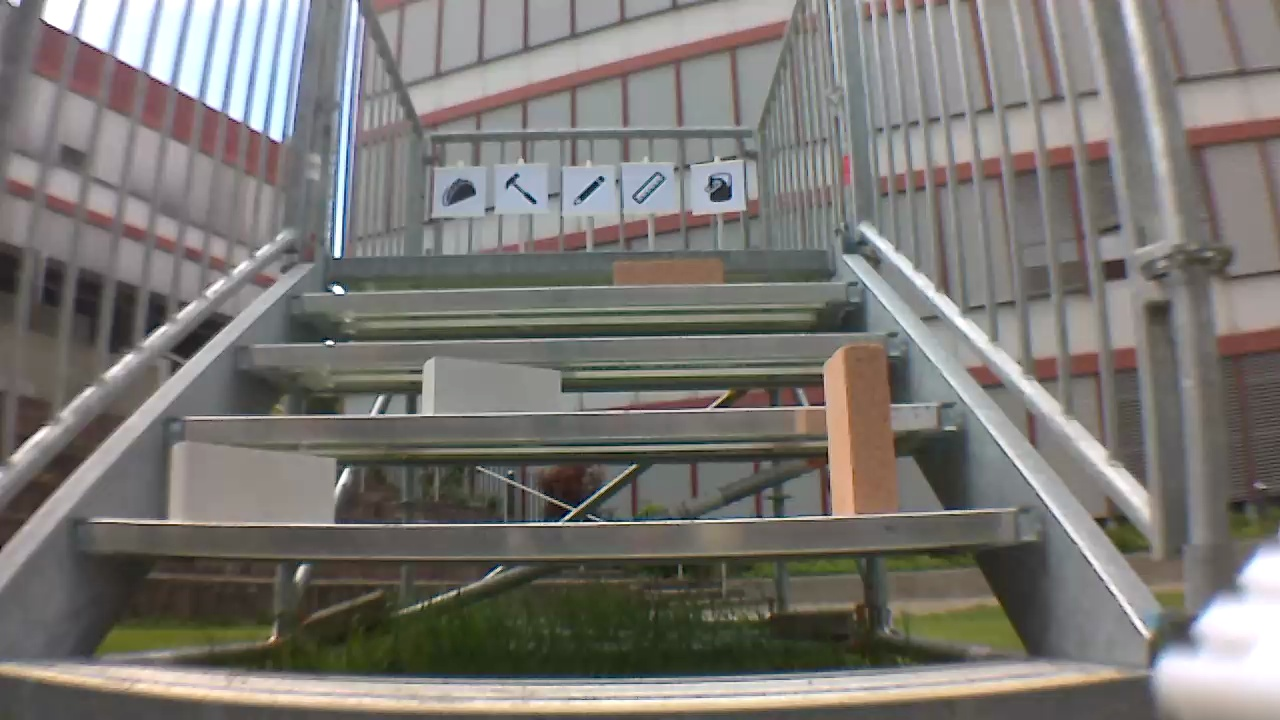brick: (170, 441, 334, 523), (823, 345, 896, 517), (422, 357, 560, 412), (612, 259, 723, 285)
bucket: (698, 167, 740, 207)
edge: (2, 670, 1152, 720), (73, 509, 1043, 559), (163, 402, 967, 441), (235, 334, 902, 362), (287, 281, 866, 310), (324, 247, 834, 272)
hammer: (497, 166, 542, 208)
pencil: (568, 169, 611, 209)
ruler: (626, 166, 669, 206)
stairs: (1, 1, 1225, 719)
steps: (2, 240, 1168, 720)
taco: (433, 172, 481, 210)
